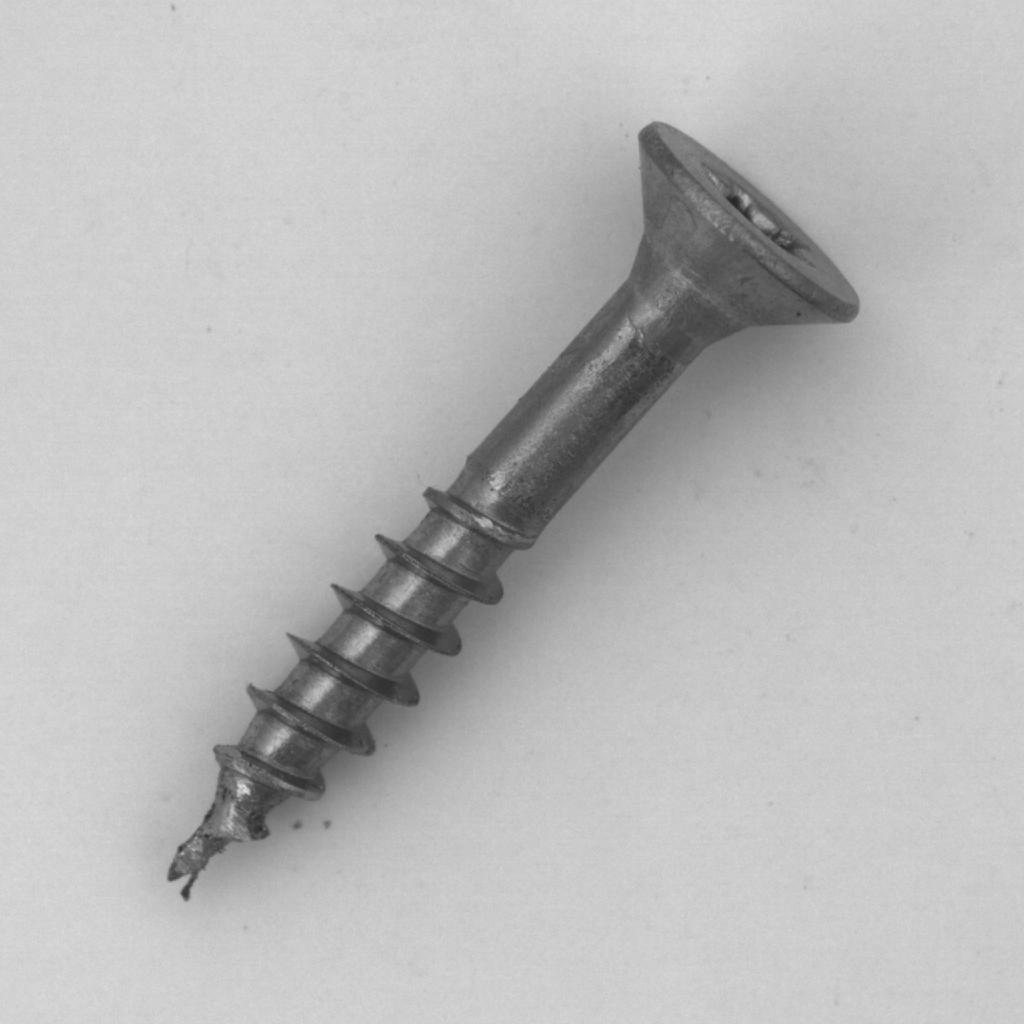bad: (24, 334, 981, 675)
